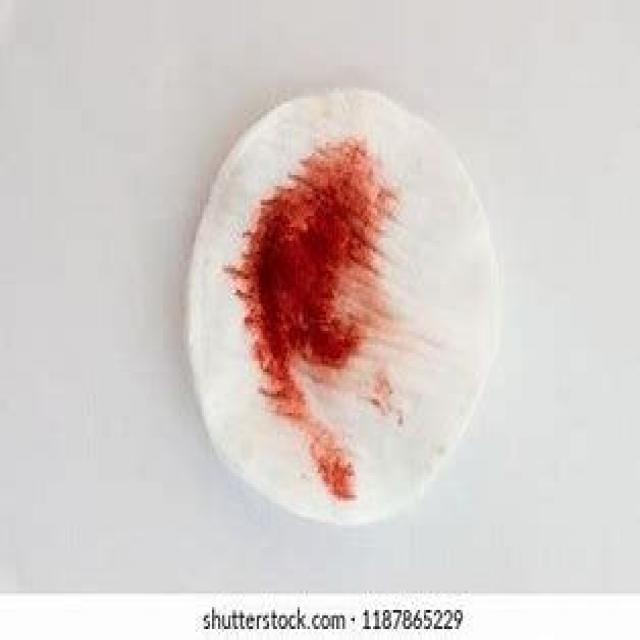wound: (224, 125, 432, 508)
